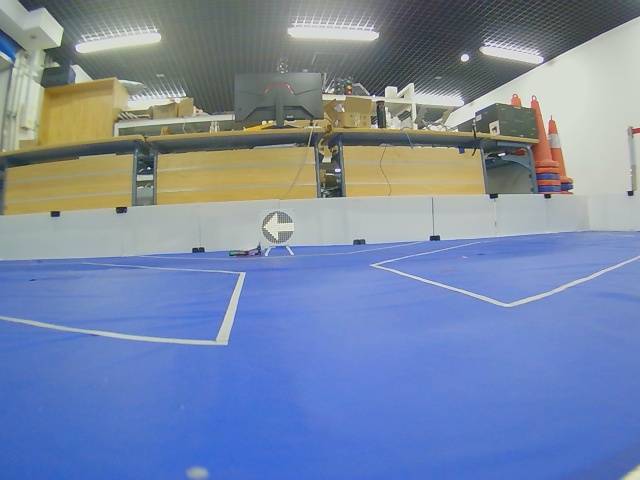left_yellow: (262, 211, 295, 245)
